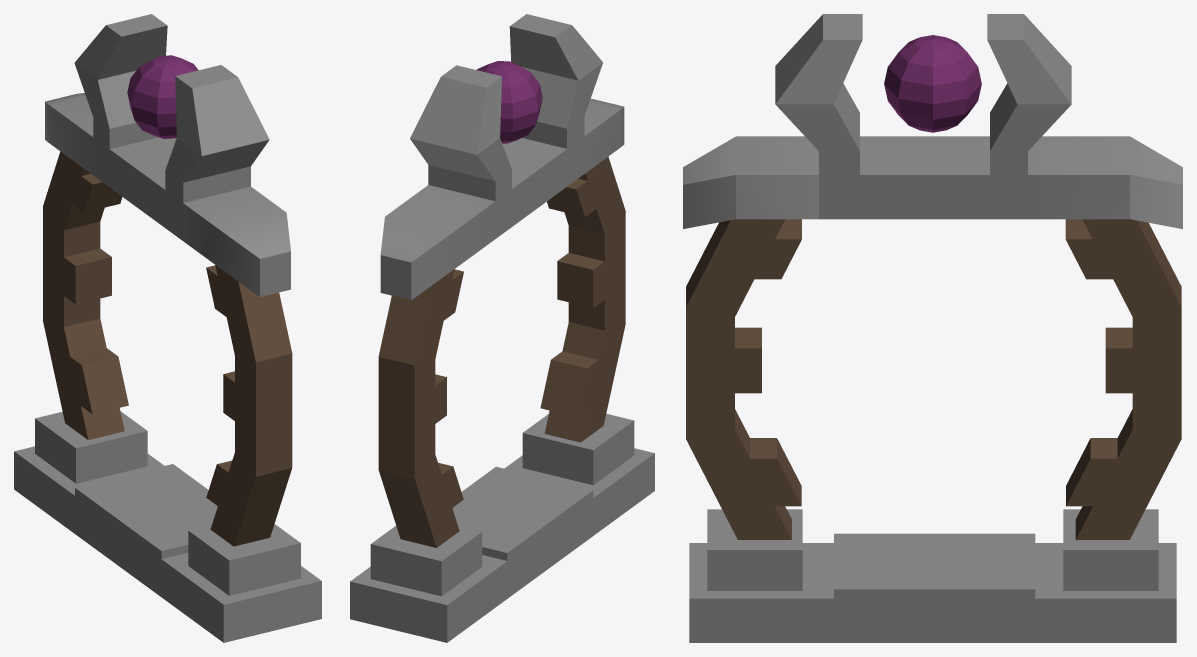
The model's file is Portal.fbx.
3 renders of one model, left to right at view 1: azimuth 30°, elevation 25°; view 2: azimuth 150°, elevation 25°; view 3: azimuth 270°, elevation 25°, orthographic. The views are drawn at different scales.
Parts seen in each view (by area): view 1: Portal; view 2: Portal; view 3: Portal.
Part boxes in pixels (x1=…): Portal: x1=14, y1=14, x2=321, y2=642; Portal: x1=350, y1=14, x2=654, y2=642; Portal: x1=683, y1=14, x2=1182, y2=642.
Size of the model in its own units: 2.69 by 13.26 by 10.22.
